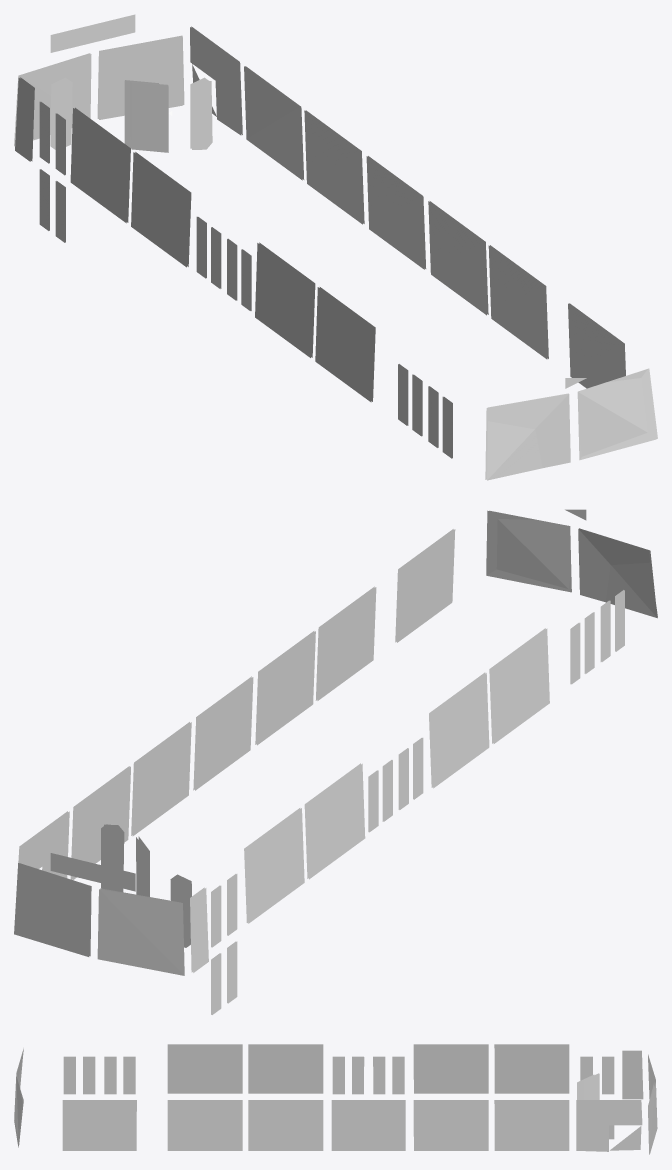
3 renders of one model, top to bottom at view 1: azimuth 30°, elevation 25°; view 2: azimuth 150°, elevation 25°; view 3: azimuth 270°, elevation 25°, orthographic. The views are drawn at different scales.
Bounding box in the file's own units: 2.37 × 2 × 11.11.
Materials: 1 (1 with a texture image).
